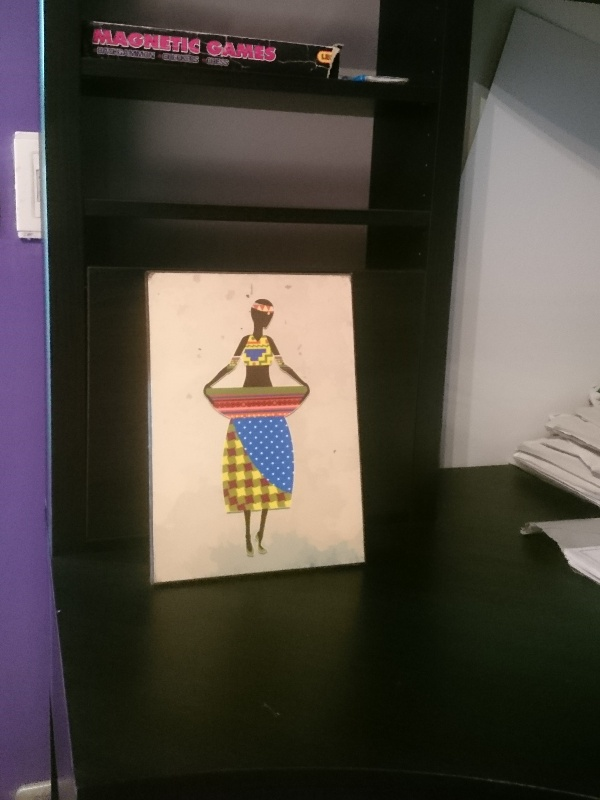my image: (150, 276, 356, 581)
